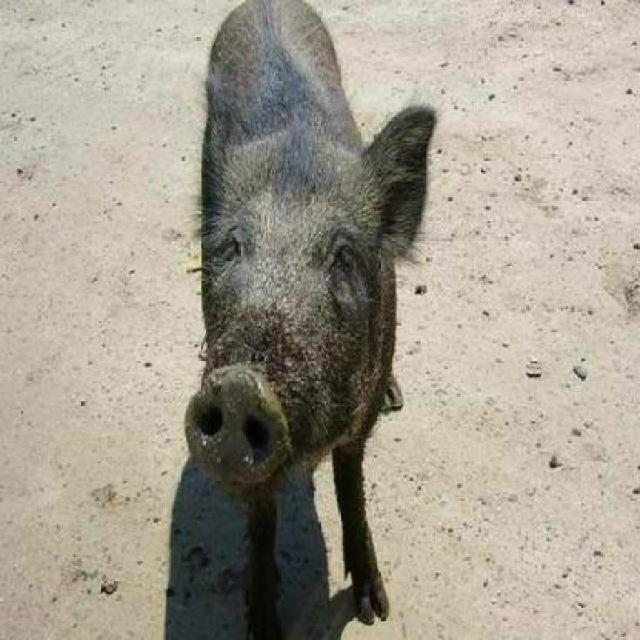Boar: (87, 0, 467, 638)
